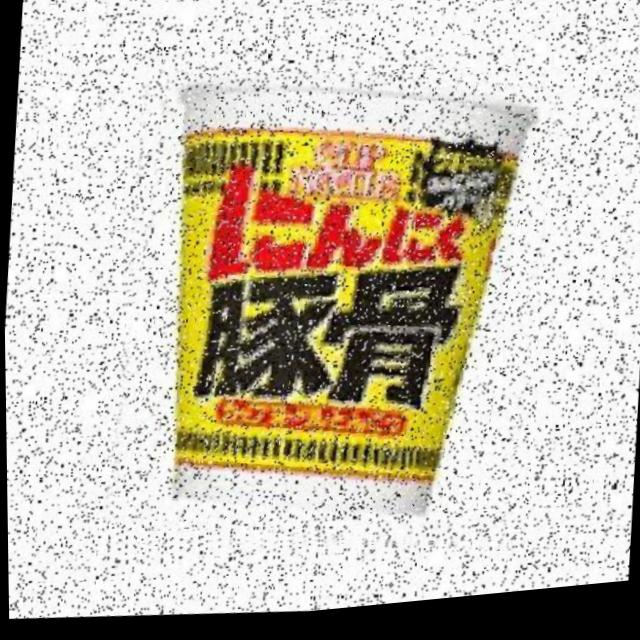Miscellaneous: (99, 46, 556, 584)
